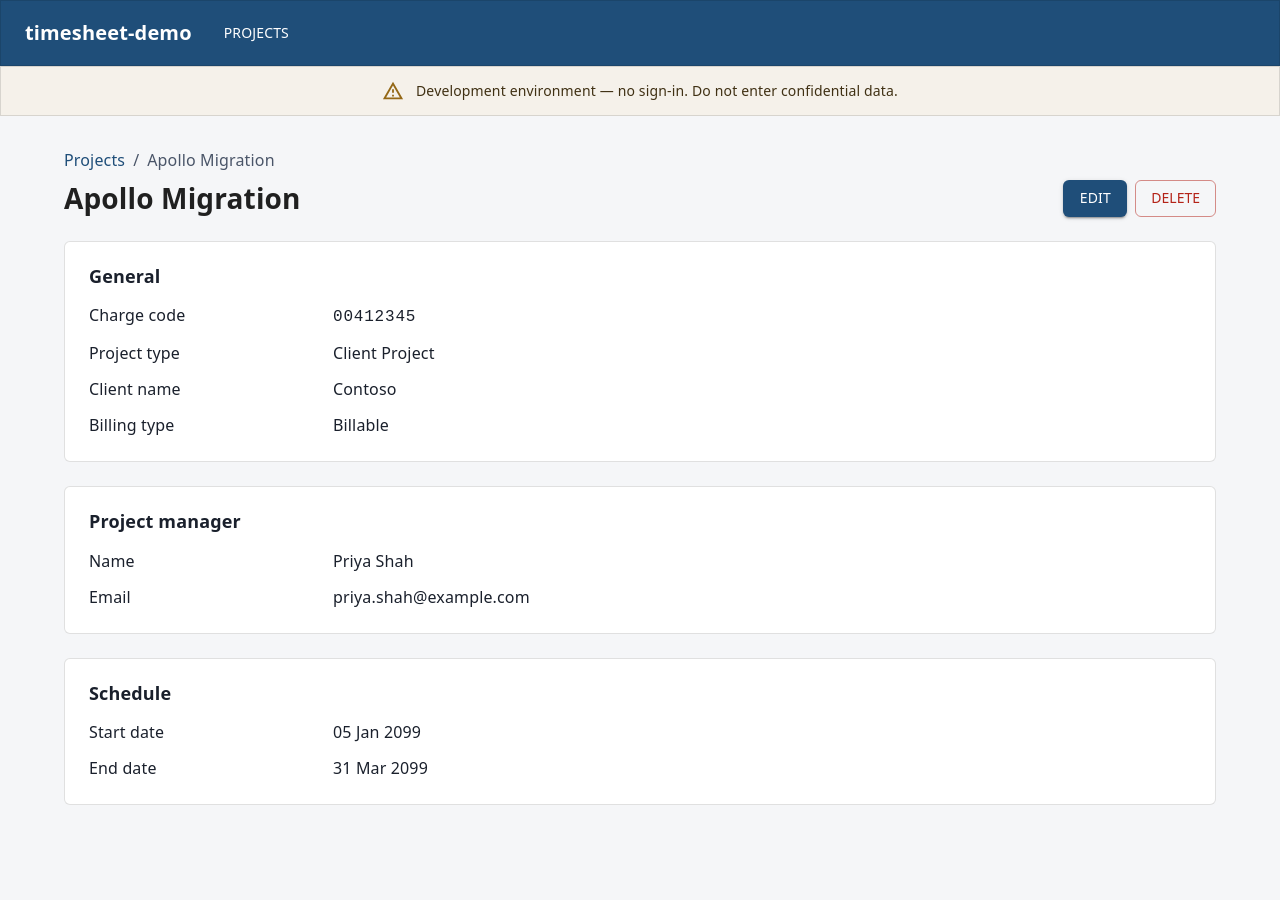
Test: DeleteProjectDialog › shows the project name and charge code, and has no axe violations
Expected: the heading "Apollo Migration" is shown, [64,182,301,215]
Click the button "Delete": (1176, 198) [1135,180,1216,216]
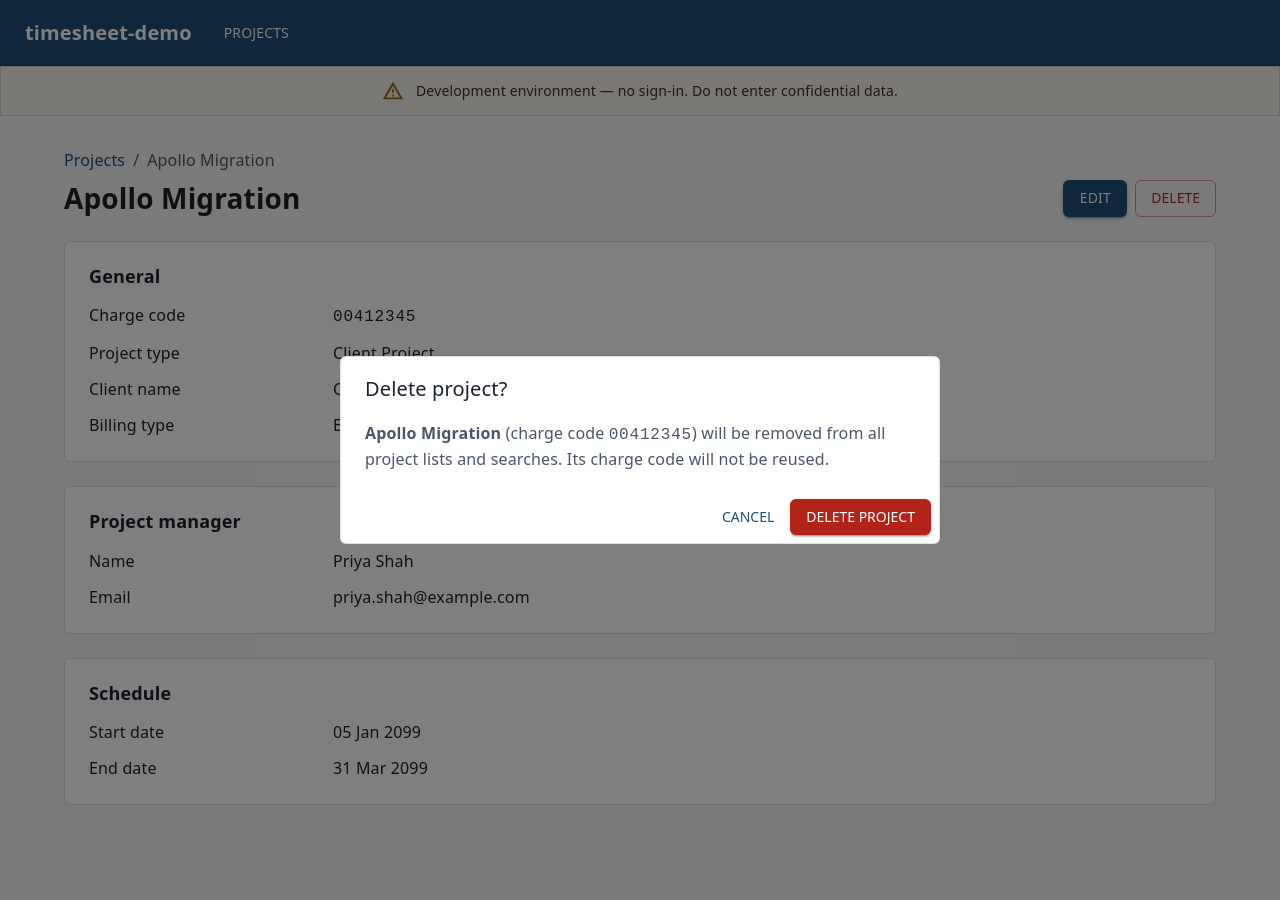
Now the text "Apollo Migration" is shown, box [365,422,501,444]
Now the text "00412345" is shown, box [609,426,692,444]
